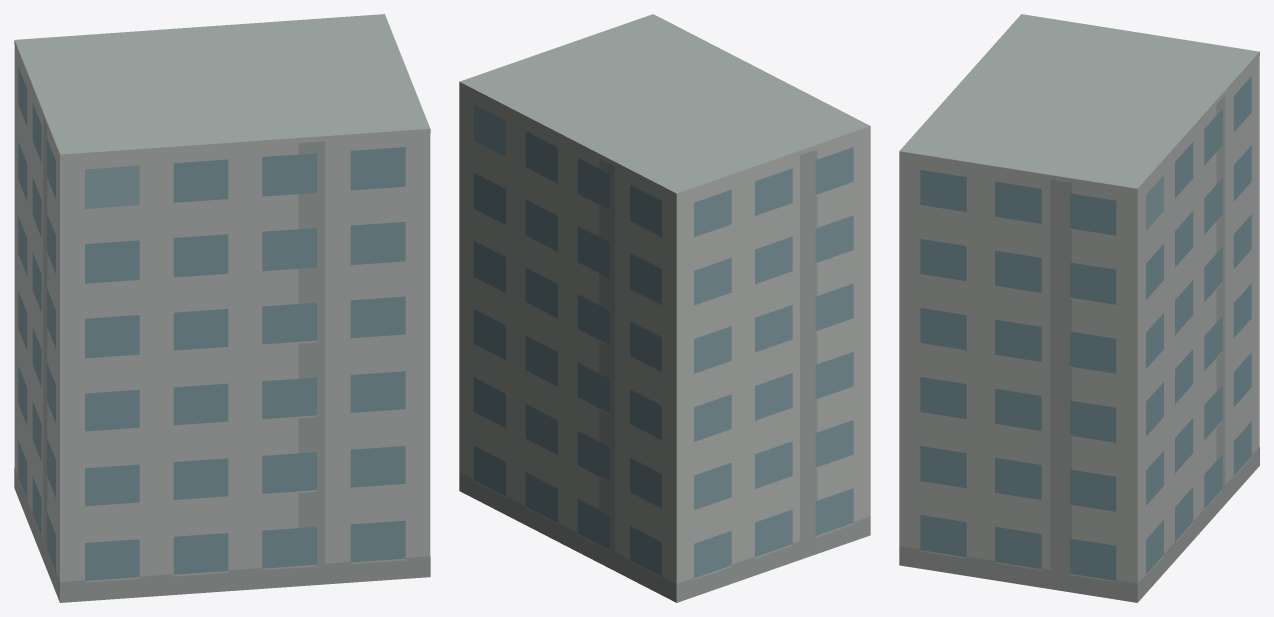
The model's file is survey-upis-32883636.glb.
The picture shows the model from 3 angles, left to right: view 1: azimuth 30°, elevation 25°; view 2: azimuth 150°, elevation 25°; view 3: azimuth 270°, elevation 25°; orthographic projection. The views are drawn at different scales.
Parts seen in each view (by area): view 1: survey-upis-32883636.tmp; view 2: survey-upis-32883636.tmp; view 3: survey-upis-32883636.tmp.
Part boxes in pixels (x1,y1,x2,y2): survey-upis-32883636.tmp: (14,14,430,602); survey-upis-32883636.tmp: (459,14,870,602); survey-upis-32883636.tmp: (899,14,1259,602).
Bounding box in the file's own units: 19.65 × 21.7 × 17.13.
